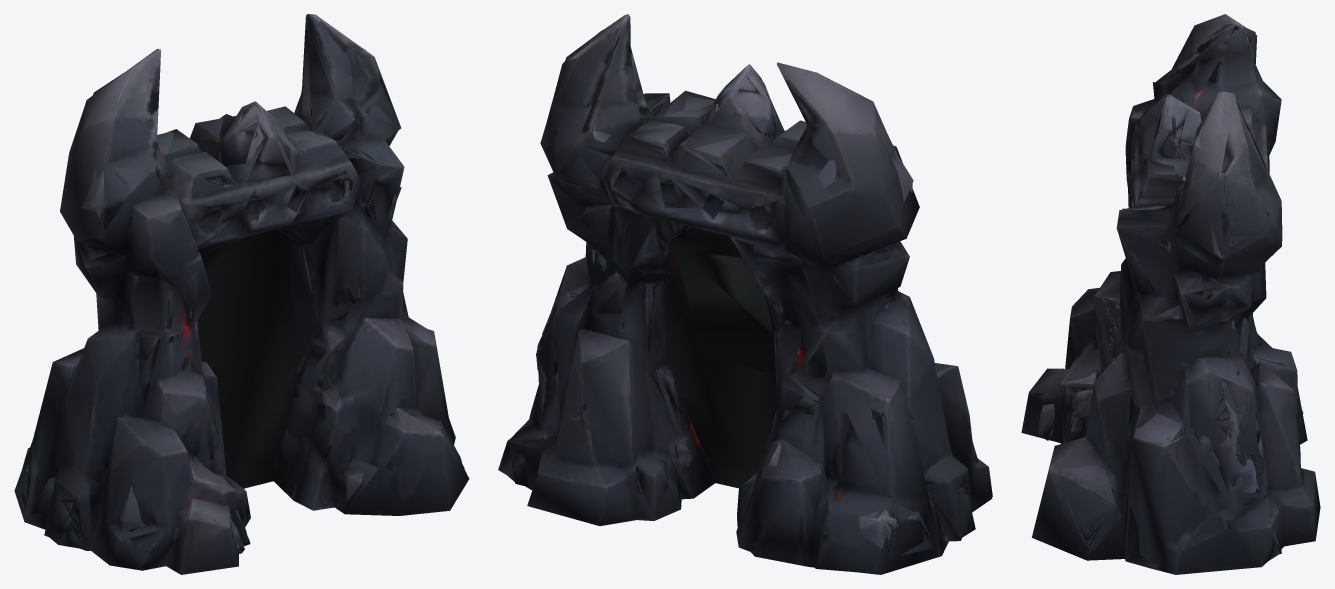
Rendered from ashen_gate.glb.
3 renders of one model, left to right at view 1: azimuth 30°, elevation 25°; view 2: azimuth 150°, elevation 25°; view 3: azimuth 270°, elevation 25°, orthographic. The views are drawn at different scales.
Visible parts, largest first — view 1: Mesh_0; view 2: Mesh_0; view 3: Mesh_0.
Part boxes in pixels (x1,y1,x2,y2): Mesh_0: (14, 14, 469, 574); Mesh_0: (498, 14, 992, 574); Mesh_0: (1021, 14, 1320, 574).
Size of the model in its own units: 3.15 by 3.2 by 2.02.
1 material, 1 textured.
